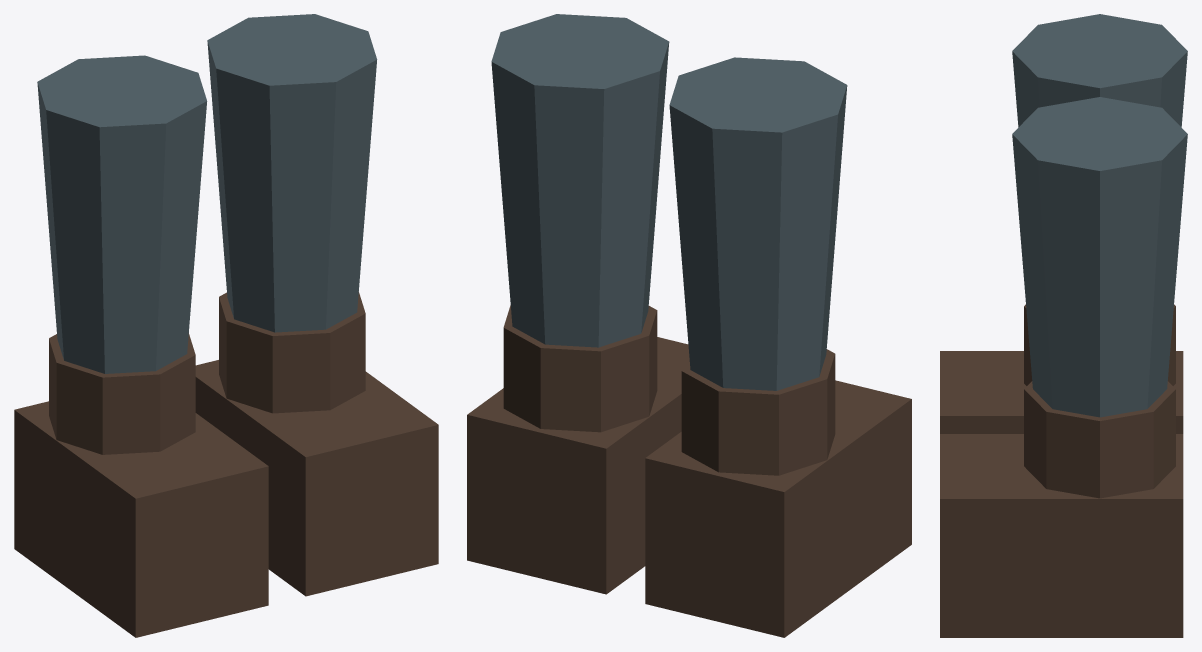
The model's file is NPC_Legs_00_Trousers.glb.
3 views of the same model, side by side, from view 1: azimuth 30°, elevation 25°; view 2: azimuth 150°, elevation 25°; view 3: azimuth 270°, elevation 25° (orthographic). The views are drawn at different scales.
Visible parts, largest first — view 1: NPC_Legs_00_Trousers; view 2: NPC_Legs_00_Trousers; view 3: NPC_Legs_00_Trousers.
Part boxes in pixels (x1,y1,x2,y2): NPC_Legs_00_Trousers: (14, 14, 438, 637); NPC_Legs_00_Trousers: (467, 14, 911, 637); NPC_Legs_00_Trousers: (940, 14, 1187, 637).
Size of the model in its own units: 0.436 by 0.61 by 0.2905.
